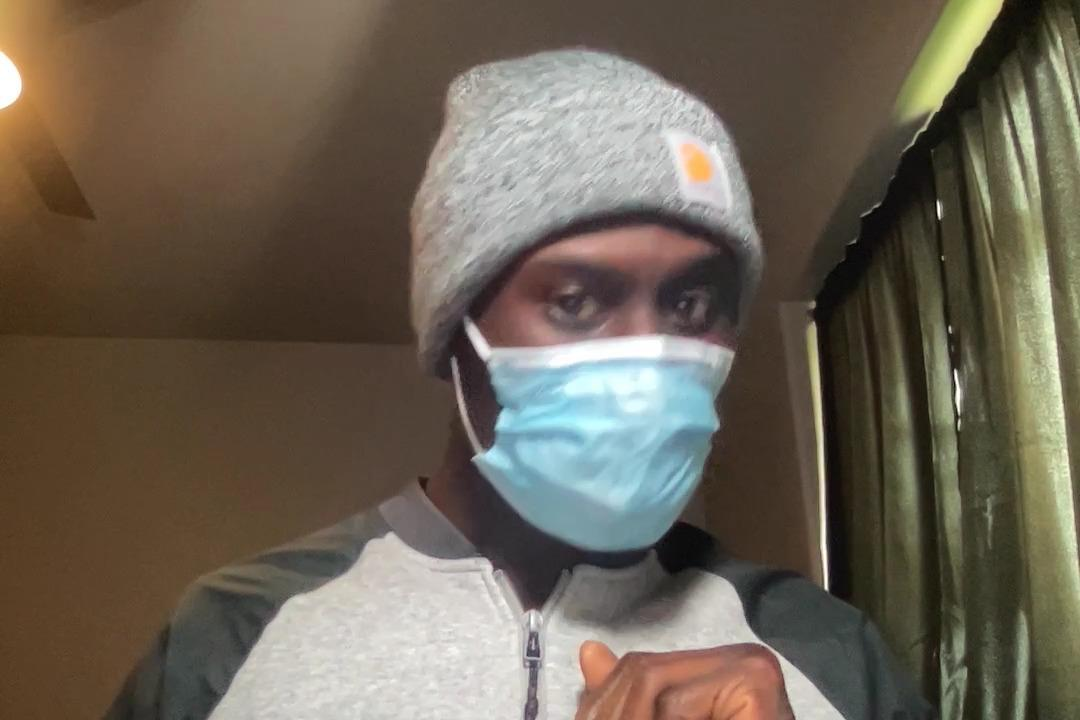face: (440, 167, 757, 553)
